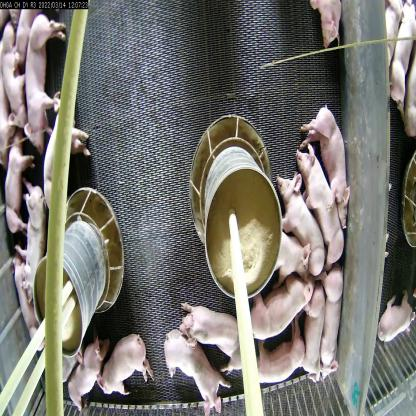Pig: (298, 94, 354, 232), (38, 84, 94, 213), (20, 11, 68, 160), (177, 279, 249, 375), (294, 142, 344, 275), (276, 158, 326, 284), (14, 174, 57, 314), (164, 324, 229, 416), (249, 324, 308, 407), (248, 272, 312, 348), (7, 251, 48, 365), (98, 328, 154, 399), (319, 260, 348, 388), (388, 0, 416, 130), (64, 334, 108, 415), (0, 128, 30, 243), (1, 31, 29, 138), (374, 278, 416, 348), (269, 220, 314, 283), (302, 279, 324, 393), (303, 0, 349, 46)
